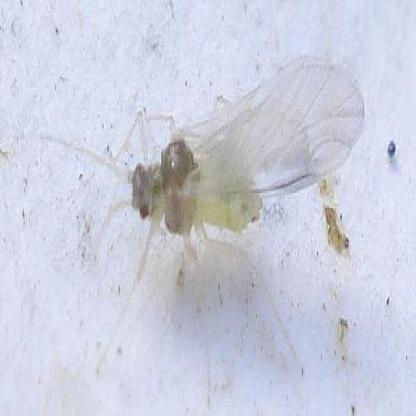aphid: (69, 56, 361, 390)
